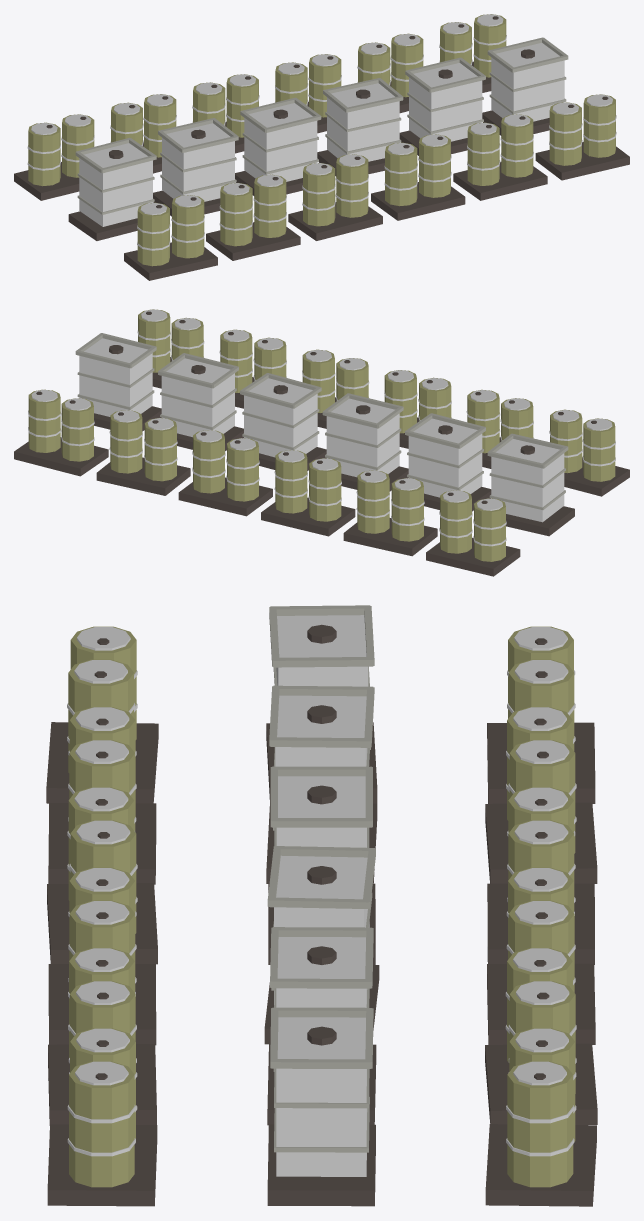
The model's file is SM_AcopioCombustible_v0_Lleno_LOD0.fbx.
3 views of the same model, one above another, from view 1: azimuth 30°, elevation 25°; view 2: azimuth 150°, elevation 25°; view 3: azimuth 270°, elevation 25° (orthographic). The views are drawn at different scales.
Visible parts, largest first — view 1: SM_acopio_carga_v5_LOD0; view 2: SM_acopio_carga_v5_LOD0; view 3: SM_acopio_carga_v5_LOD0.
Part boxes in pixels (x1,y1,x2,y2): SM_acopio_carga_v5_LOD0: (14, 14, 629, 280); SM_acopio_carga_v5_LOD0: (14, 309, 629, 576); SM_acopio_carga_v5_LOD0: (46, 605, 597, 1206).
Size of the model in its own units: 9.1 by 1.27 by 4.52.
